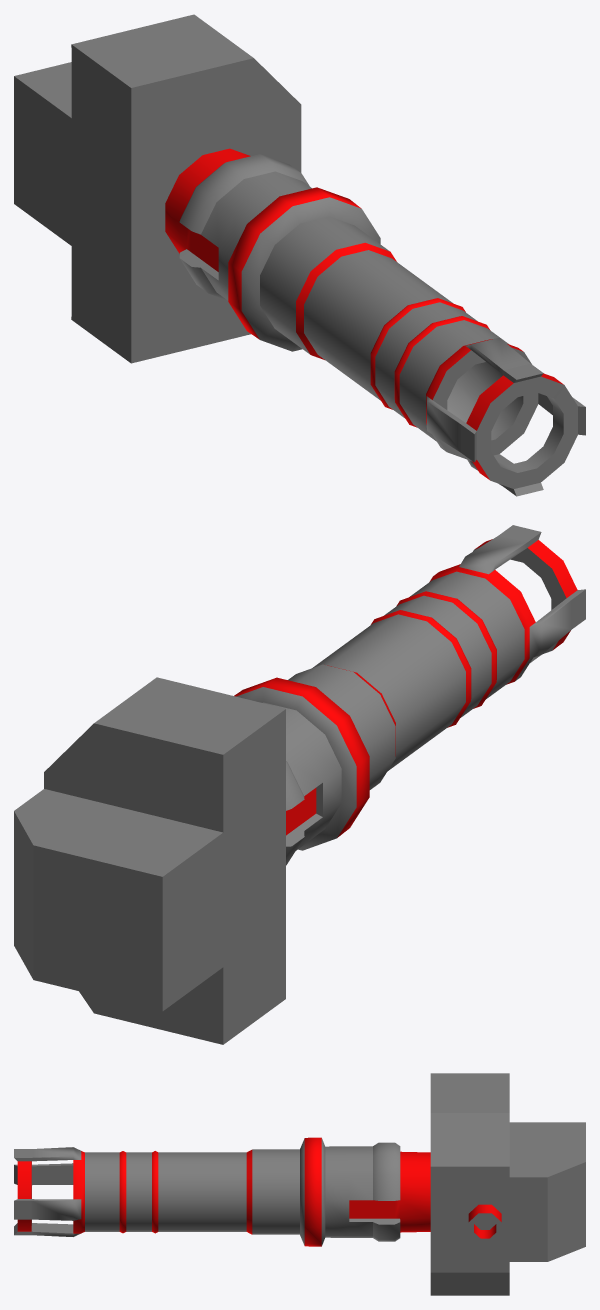
File: FlameThrower.obj
3 views of the same model, one above another, from view 1: azimuth 30°, elevation 25°; view 2: azimuth 150°, elevation 25°; view 3: azimuth 270°, elevation 25° (orthographic). The views are drawn at different scales.
Visible parts, largest first — view 1: FlameThrower TheCube; view 2: FlameThrower TheCube; view 3: FlameThrower TheCube.
Boxes of the visible parts, box(x1,y1,x2,y2) form: FlameThrower TheCube: box(14, 14, 585, 496); FlameThrower TheCube: box(14, 525, 585, 1044); FlameThrower TheCube: box(14, 1073, 585, 1295).
Bounding box in the file's own units: 3.74 × 5 × 14.19.
